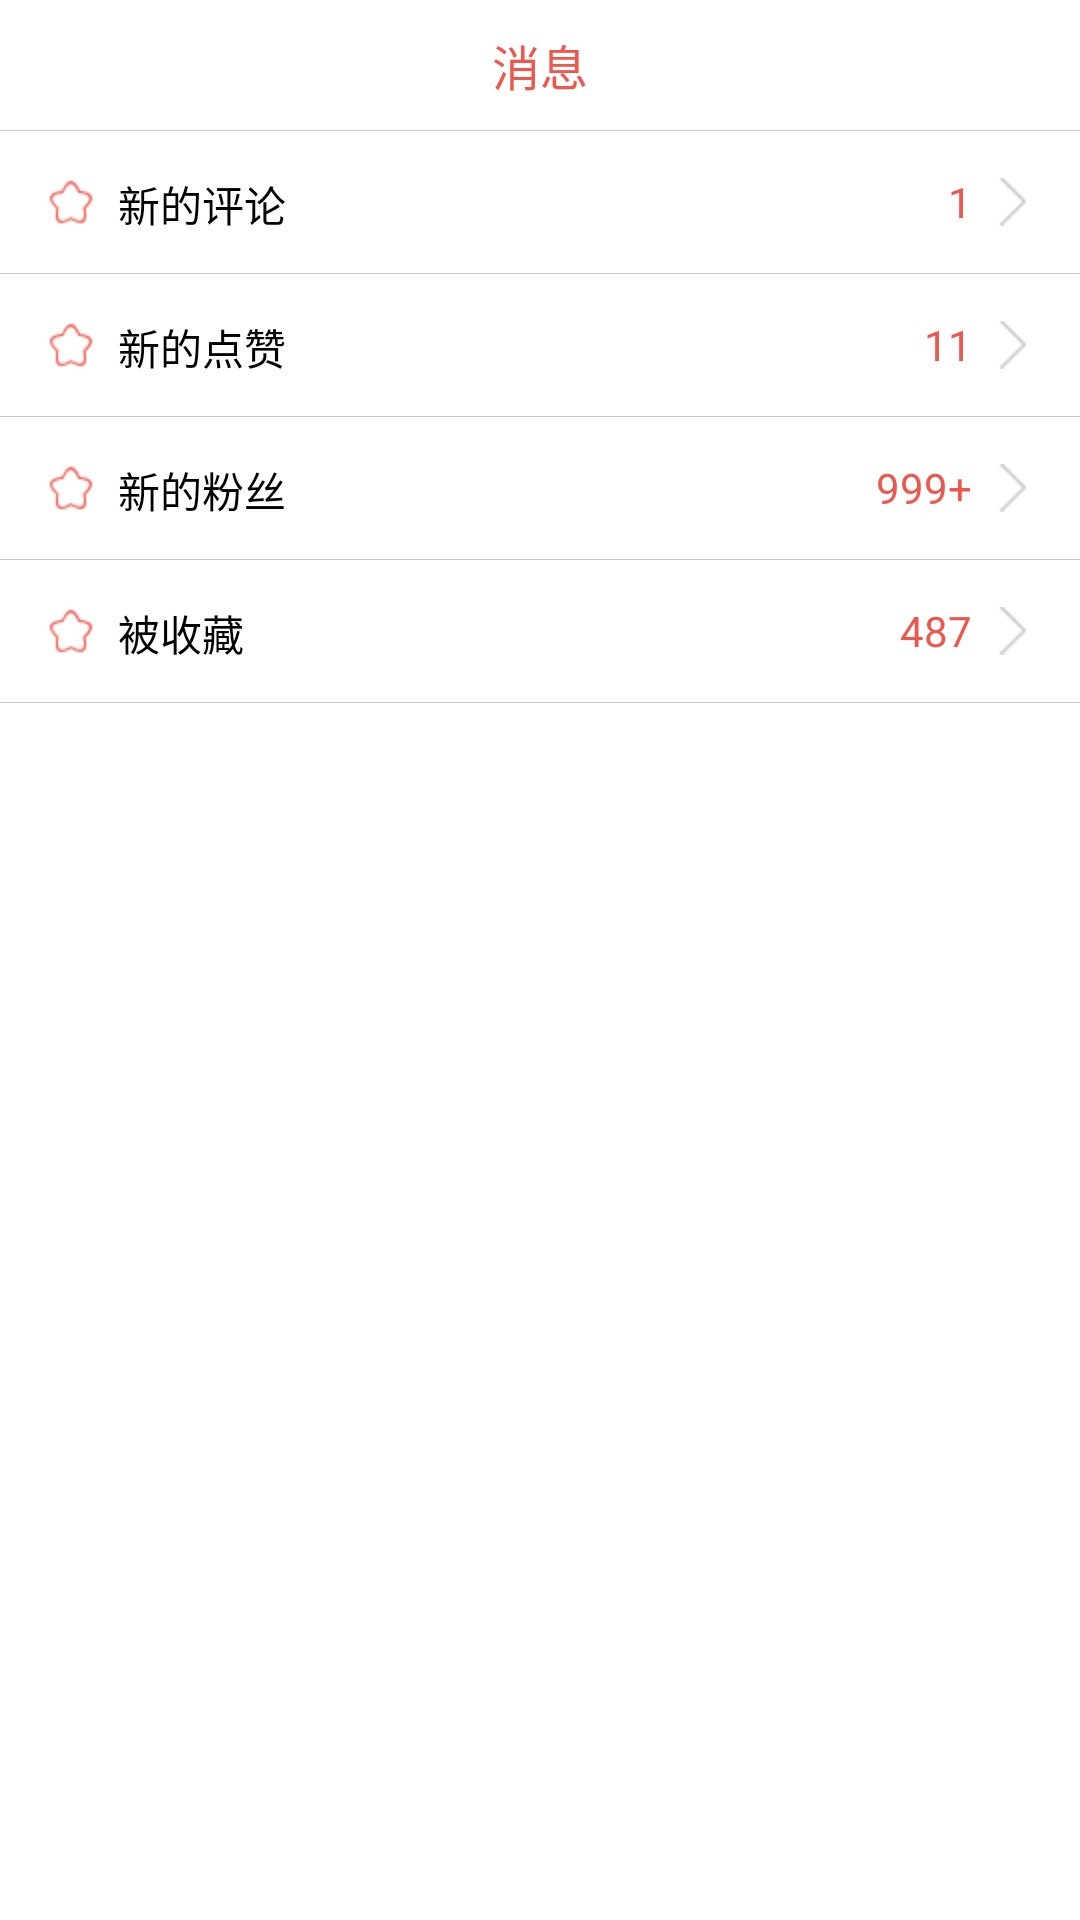

Named icons in this screenshot (1080w x 1920h) and their centers, [x,y]:
collect: [71,202], [71,345], [71,488], [71,631]
